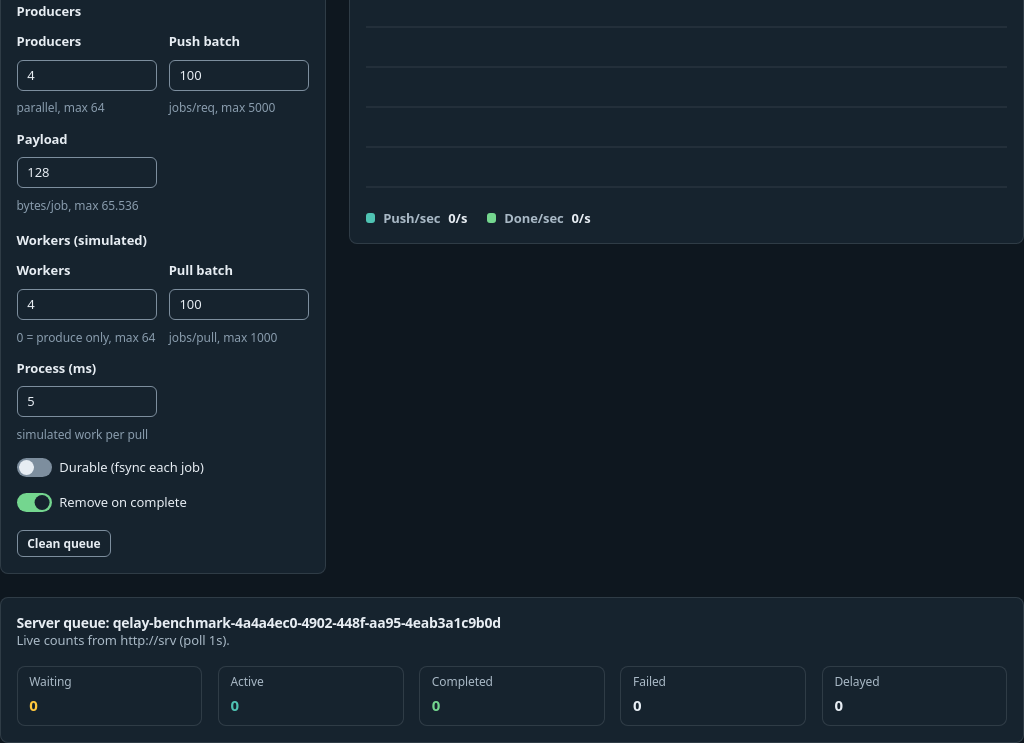
Scenario: Clean queue › a yes cleans the dedicated queue only, and the result is a glyph plus a sentence
(page scrolled)
Click the button "Clean queue" at (64, 544), box [17,530,111,557]
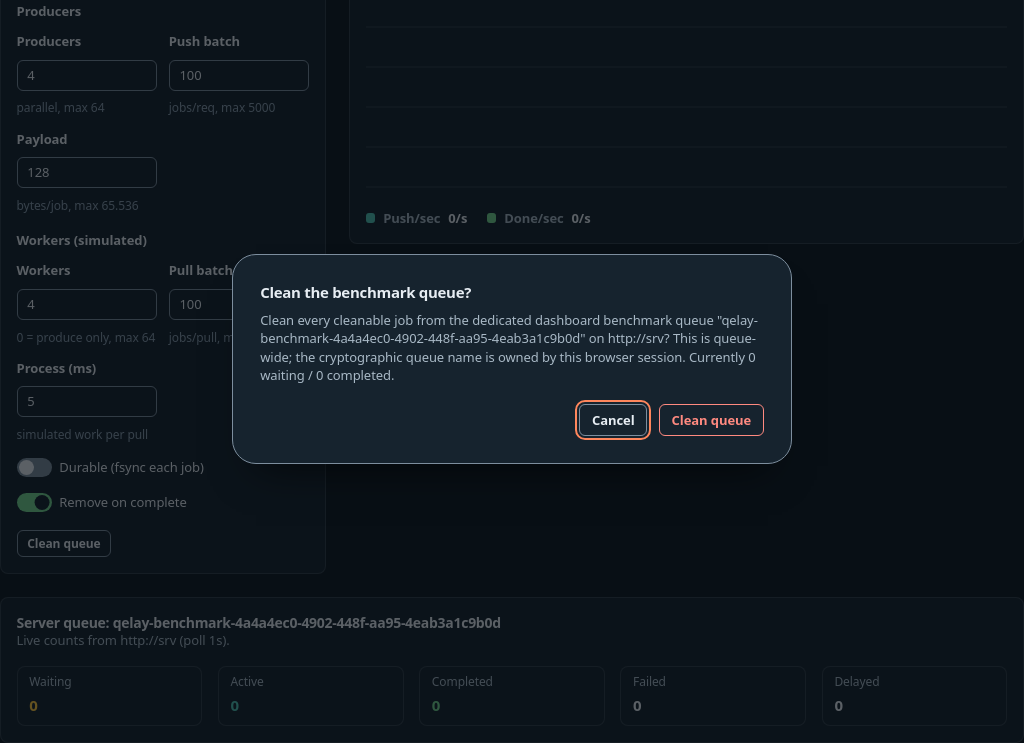
Click the button "Clean queue" at (711, 420), box [659,404,764,436]
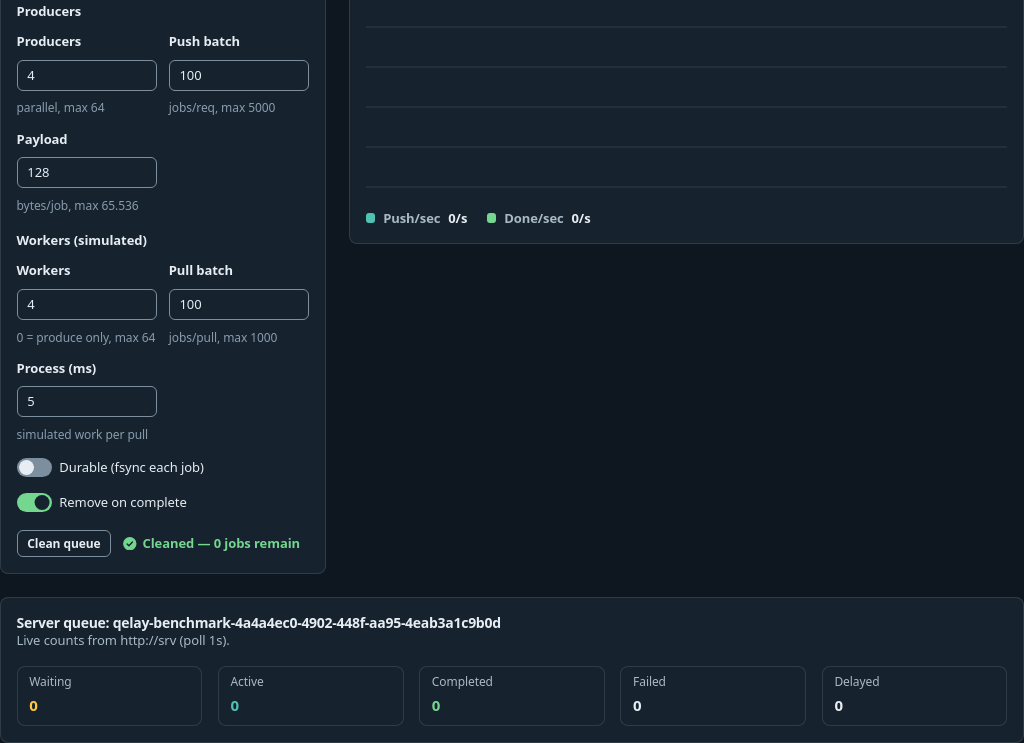
Check: the message with class "motion-arrive" reads "Cleaned — 0 jobs remain", box [142,534,300,552]
Check: the icon is shown, box [123,537,137,550]
